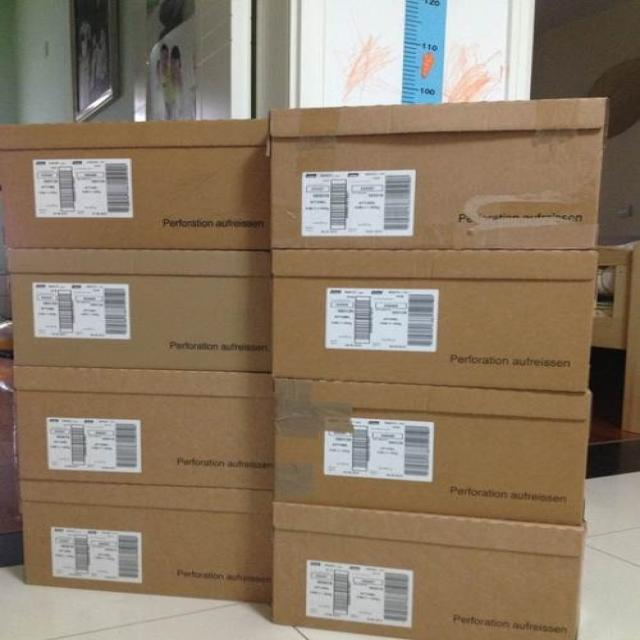box: (270, 100, 605, 250), (272, 375, 590, 525), (271, 250, 597, 392), (270, 500, 586, 639), (0, 118, 271, 248), (4, 248, 271, 373), (16, 480, 272, 605), (14, 365, 273, 488)
